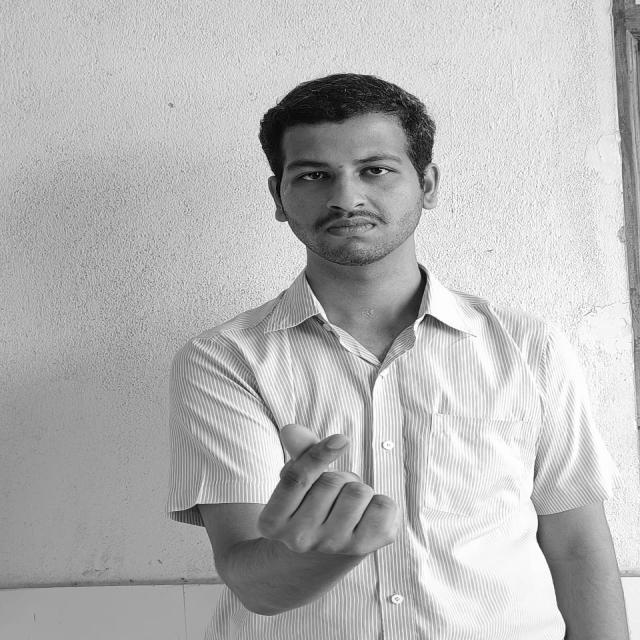Grattitude: (253, 422, 399, 563)
